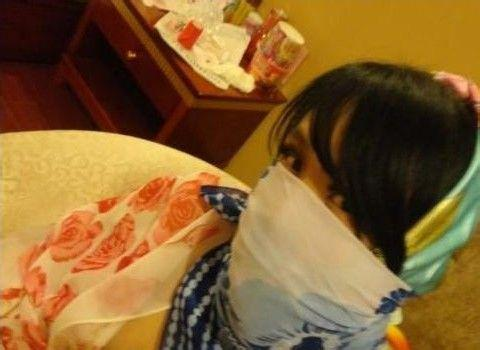OK: (240, 131, 408, 299)
